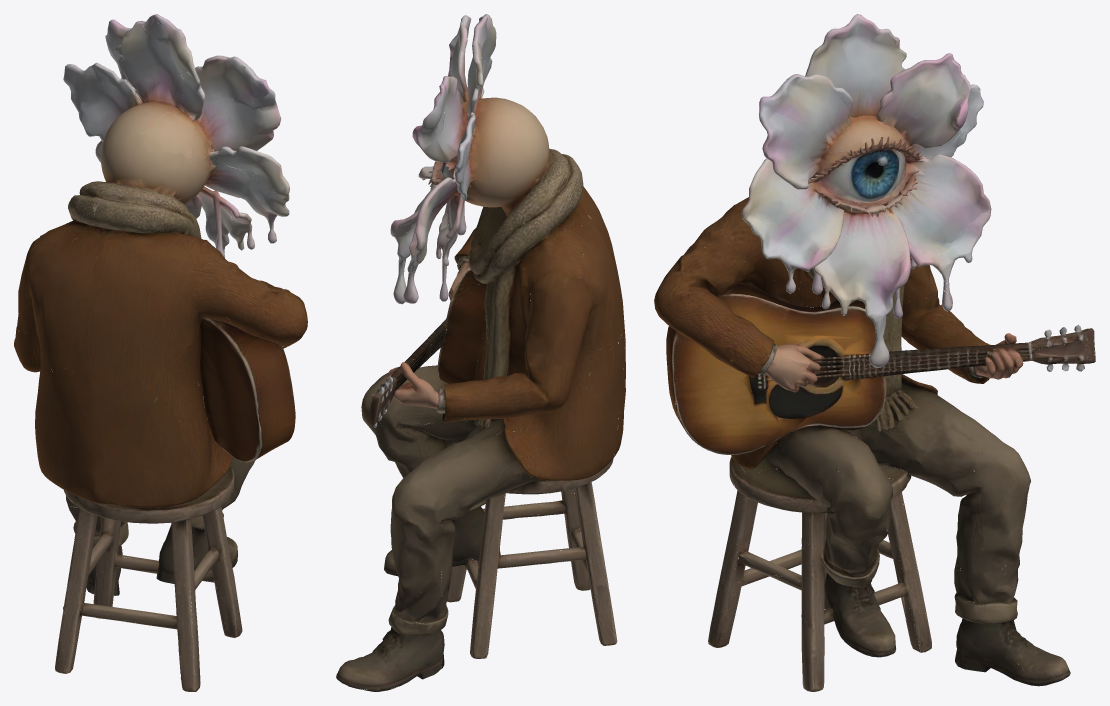
Rendered from folksinger.glb.
The picture shows the model from 3 angles, left to right: view 1: azimuth 30°, elevation 25°; view 2: azimuth 150°, elevation 25°; view 3: azimuth 270°, elevation 25°; orthographic projection. The views are drawn at different scales.
Parts seen in each view (by area): view 1: tripo_node_506e7adc-c99f-441d-aa60-8759da290647; view 2: tripo_node_506e7adc-c99f-441d-aa60-8759da290647; view 3: tripo_node_506e7adc-c99f-441d-aa60-8759da290647.
Boxes of the visible parts, box(x1,y1,x2,y2) form: tripo_node_506e7adc-c99f-441d-aa60-8759da290647: box(14, 14, 307, 691); tripo_node_506e7adc-c99f-441d-aa60-8759da290647: box(336, 14, 625, 691); tripo_node_506e7adc-c99f-441d-aa60-8759da290647: box(654, 14, 1095, 691).
Bounding box in the file's own units: 0.4053 × 0.9999 × 0.6163.
Materials: 1 (1 with a texture image).
